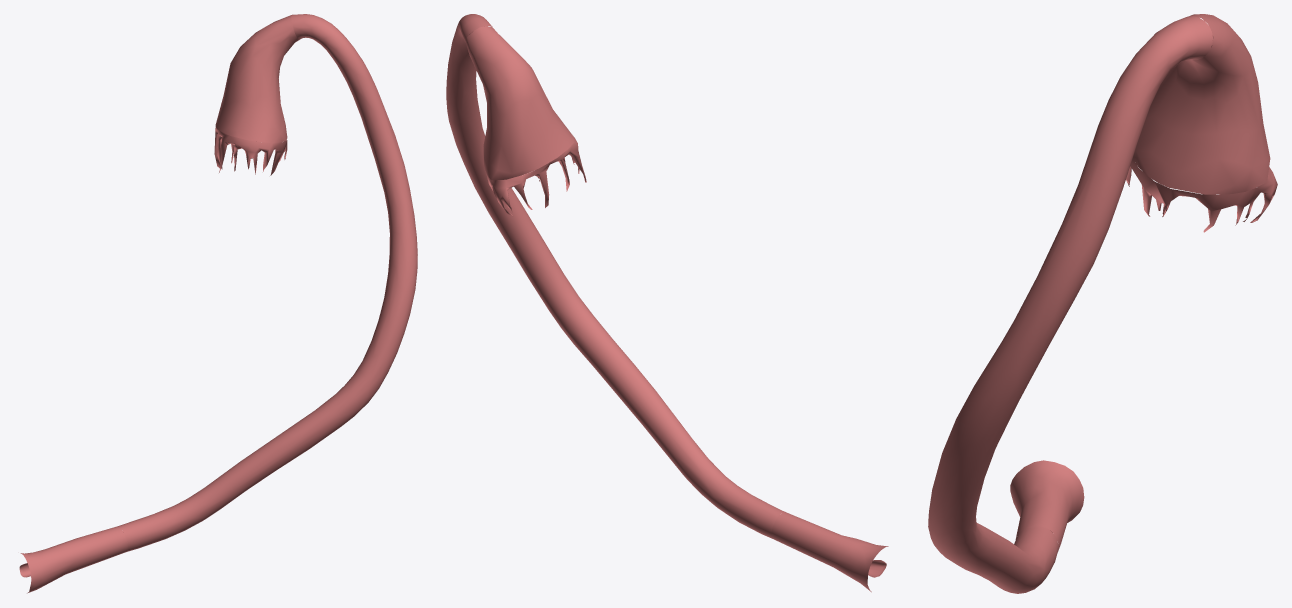
The model's file is vh_f_fallopian_tube_l.glb.
3 renders of one model, left to right at view 1: azimuth 30°, elevation 25°; view 2: azimuth 150°, elevation 25°; view 3: azimuth 270°, elevation 25°, orthographic. The views are drawn at different scales.
Visible parts, largest first — view 1: VH_F_ampulla_of_uterine_tube_L, VH_F_uterine_tube_infundibulum_L, VH_F_isthmus_of_fallopian_tube_L, VH_F_fibria_of_uterine_tube_L; view 2: VH_F_ampulla_of_uterine_tube_L, VH_F_uterine_tube_infundibulum_L, VH_F_isthmus_of_fallopian_tube_L, VH_F_fibria_of_uterine_tube_L; view 3: VH_F_ampulla_of_uterine_tube_L, VH_F_uterine_tube_infundibulum_L, VH_F_isthmus_of_fallopian_tube_L, VH_F_fibria_of_uterine_tube_L.
Part boxes in pixels (box(x1,y1,x2,y2)): VH_F_ampulla_of_uterine_tube_L: box(118, 14, 417, 551); VH_F_uterine_tube_infundibulum_L: box(215, 15, 299, 142); VH_F_isthmus_of_fallopian_tube_L: box(19, 526, 127, 593); VH_F_fibria_of_uterine_tube_L: box(214, 127, 287, 175); VH_F_ampulla_of_uterine_tube_L: box(446, 14, 785, 538); VH_F_uterine_tube_infundibulum_L: box(465, 26, 574, 180); VH_F_isthmus_of_fallopian_tube_L: box(771, 512, 888, 592); VH_F_fibria_of_uterine_tube_L: box(486, 136, 586, 216); VH_F_ampulla_of_uterine_tube_L: box(928, 16, 1212, 593); VH_F_uterine_tube_infundibulum_L: box(1132, 14, 1270, 194); VH_F_isthmus_of_fallopian_tube_L: box(1010, 460, 1084, 551); VH_F_fibria_of_uterine_tube_L: box(1126, 159, 1277, 232).
Bounding box in the file's own units: 0.0386 × 0.0445 × 0.0186.
